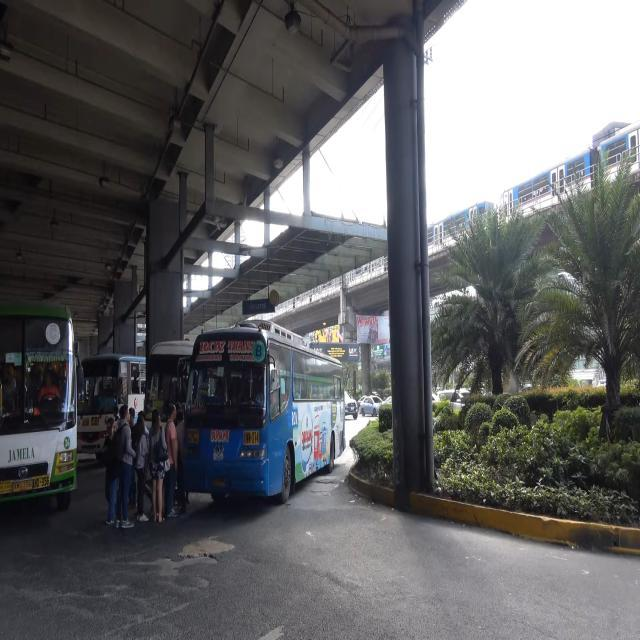bus: (180, 322, 348, 508), (0, 299, 80, 515), (80, 352, 152, 454)
